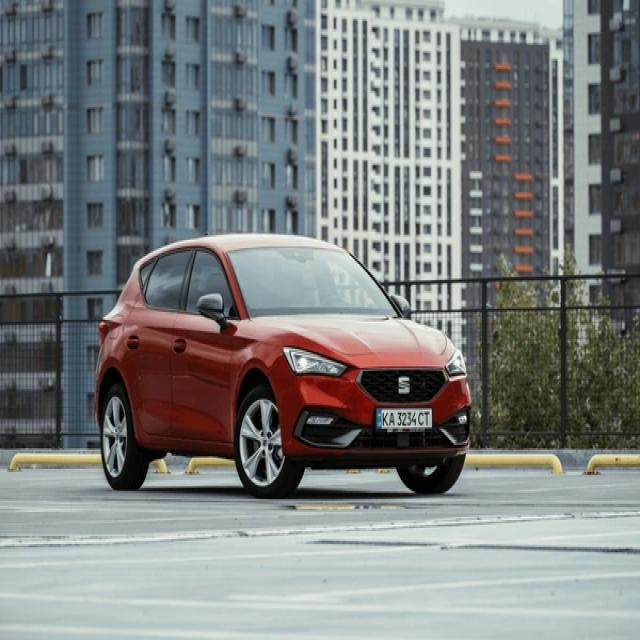seat: (397, 378, 411, 397)
